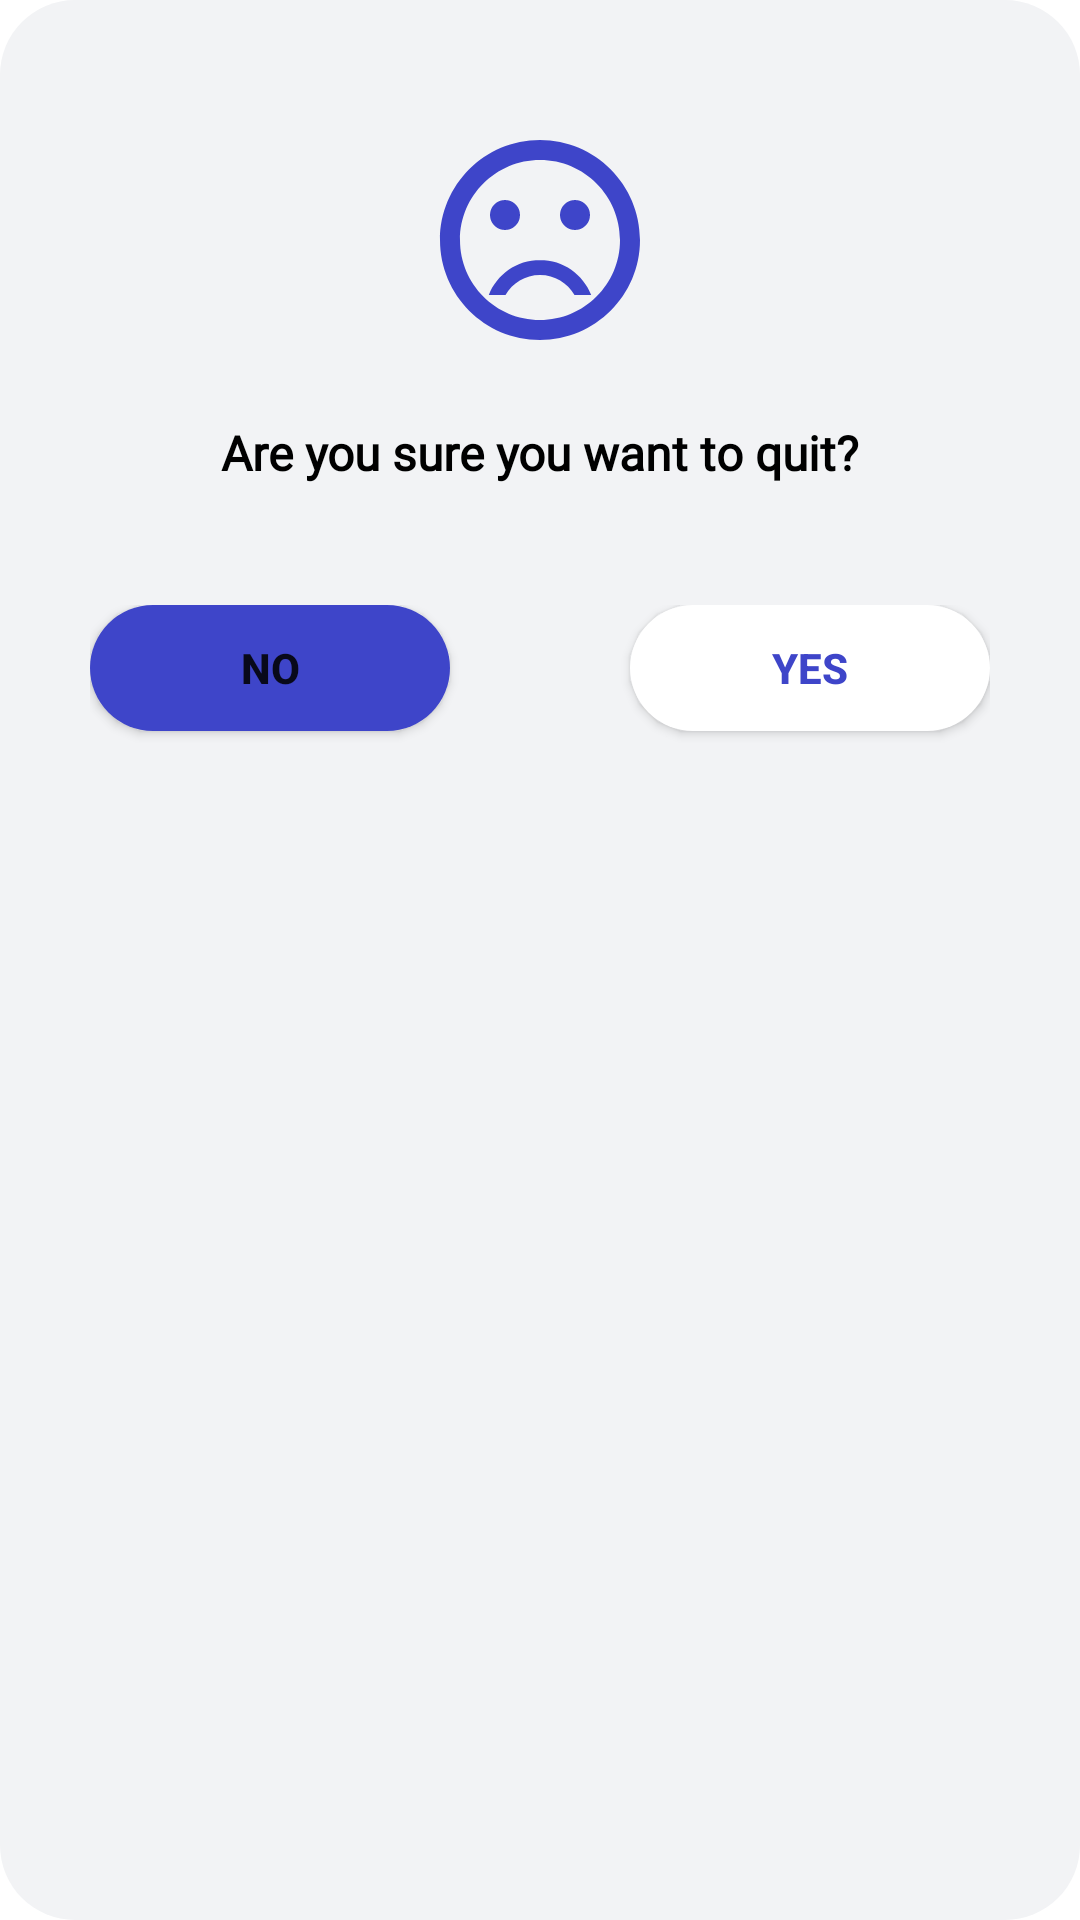

Icons on this 1080×1920 Android screen, each with the point to tap as point (x, y):
sad: point (540, 240)
